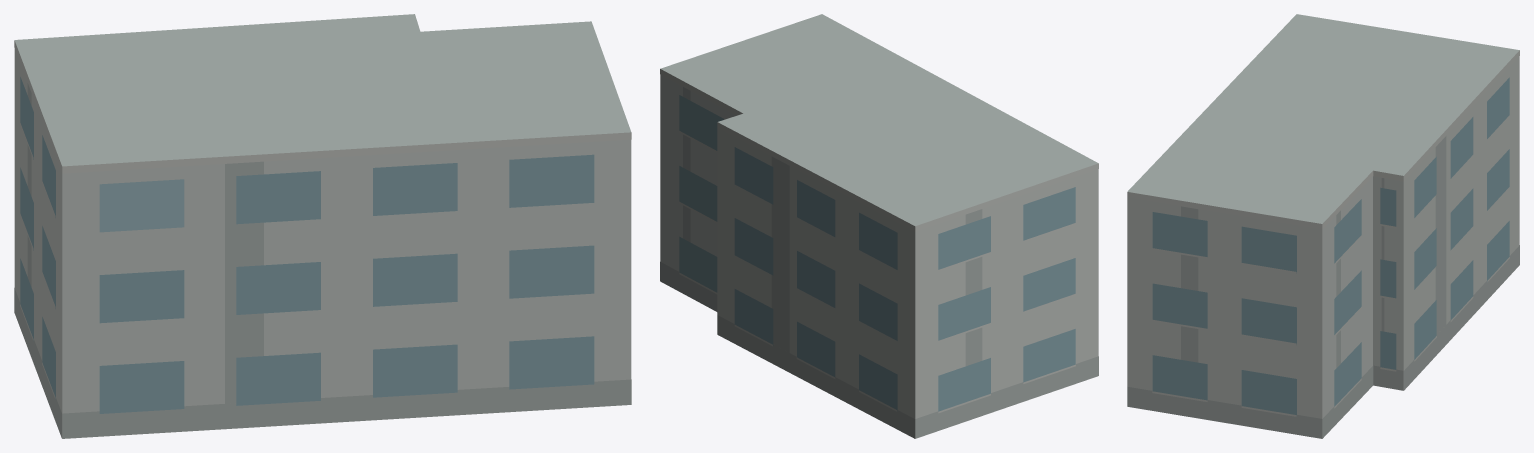
Rendered from survey-upis-32531257.glb.
3 views of the same model, side by side, from view 1: azimuth 30°, elevation 25°; view 2: azimuth 150°, elevation 25°; view 3: azimuth 270°, elevation 25° (orthographic). The views are drawn at different scales.
Parts seen in each view (by area): view 1: survey-upis-32531257.tmp; view 2: survey-upis-32531257.tmp; view 3: survey-upis-32531257.tmp.
Boxes of the visible parts, x1,y1,x2,y2 form: survey-upis-32531257.tmp: (14, 14, 631, 438); survey-upis-32531257.tmp: (660, 14, 1098, 438); survey-upis-32531257.tmp: (1127, 14, 1519, 438).
Bounding box in the file's own units: 19.19 × 9.15 × 15.16.
